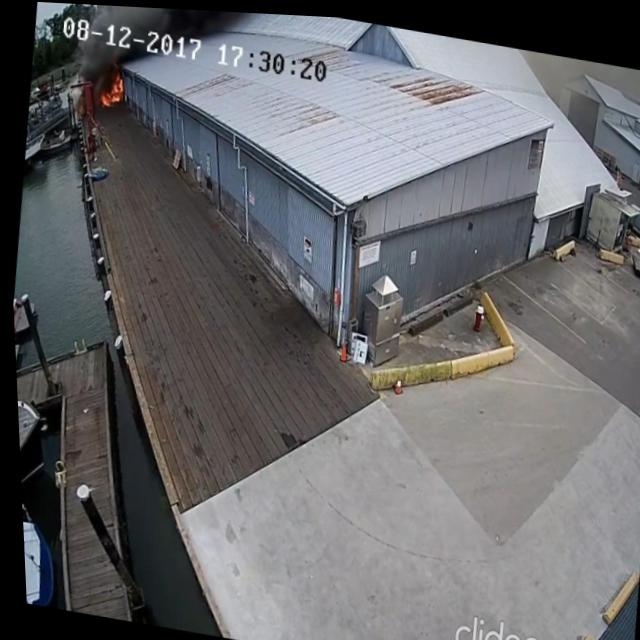fire: (93, 64, 127, 110)
